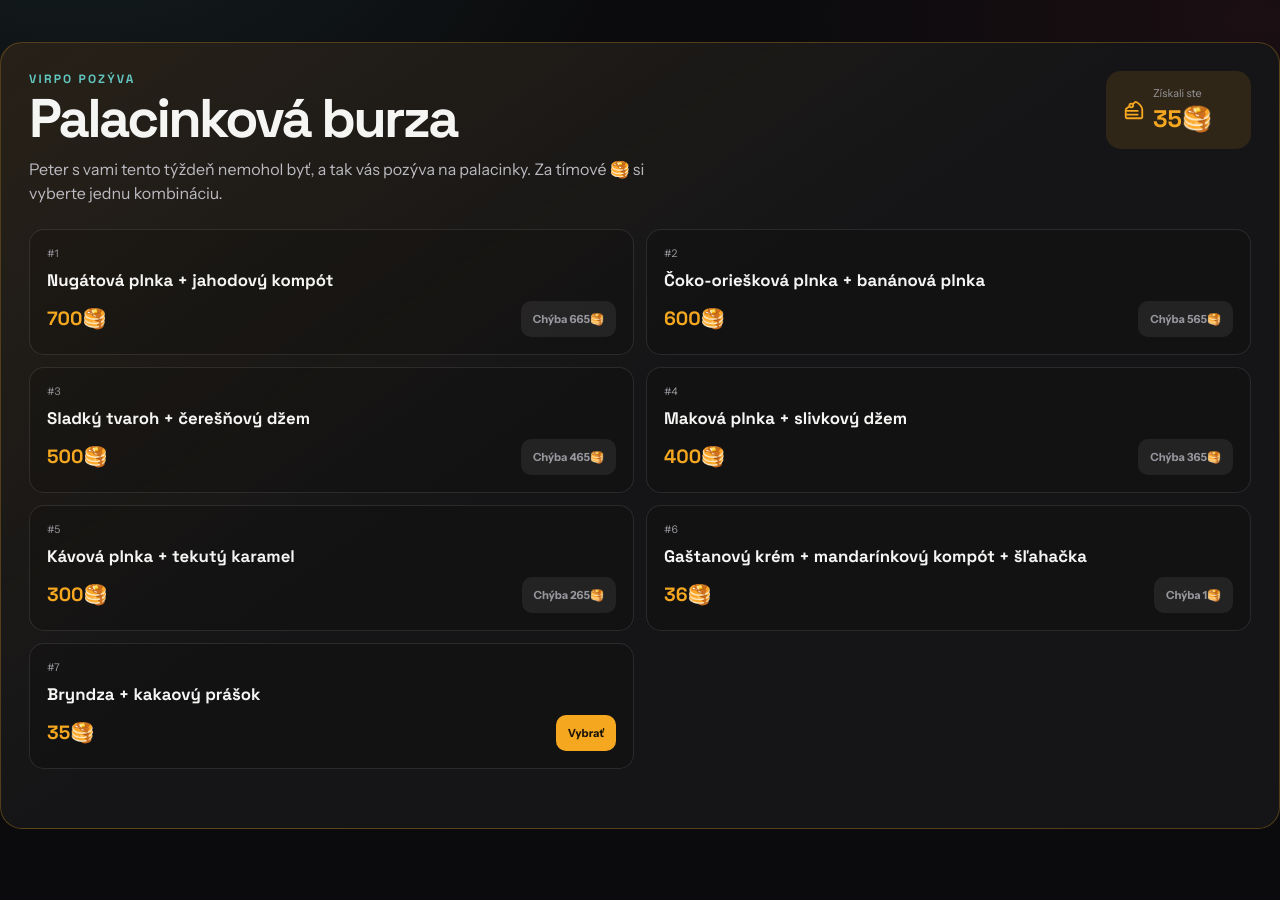
PancakeMarket › saves an affordable team choice and acknowledges success
This screenshot has width=1280, height=900.
Click the button with aria-label "Vybrať Bryndza + kakaový prášok" at (586, 733), box [556,715,616,751]
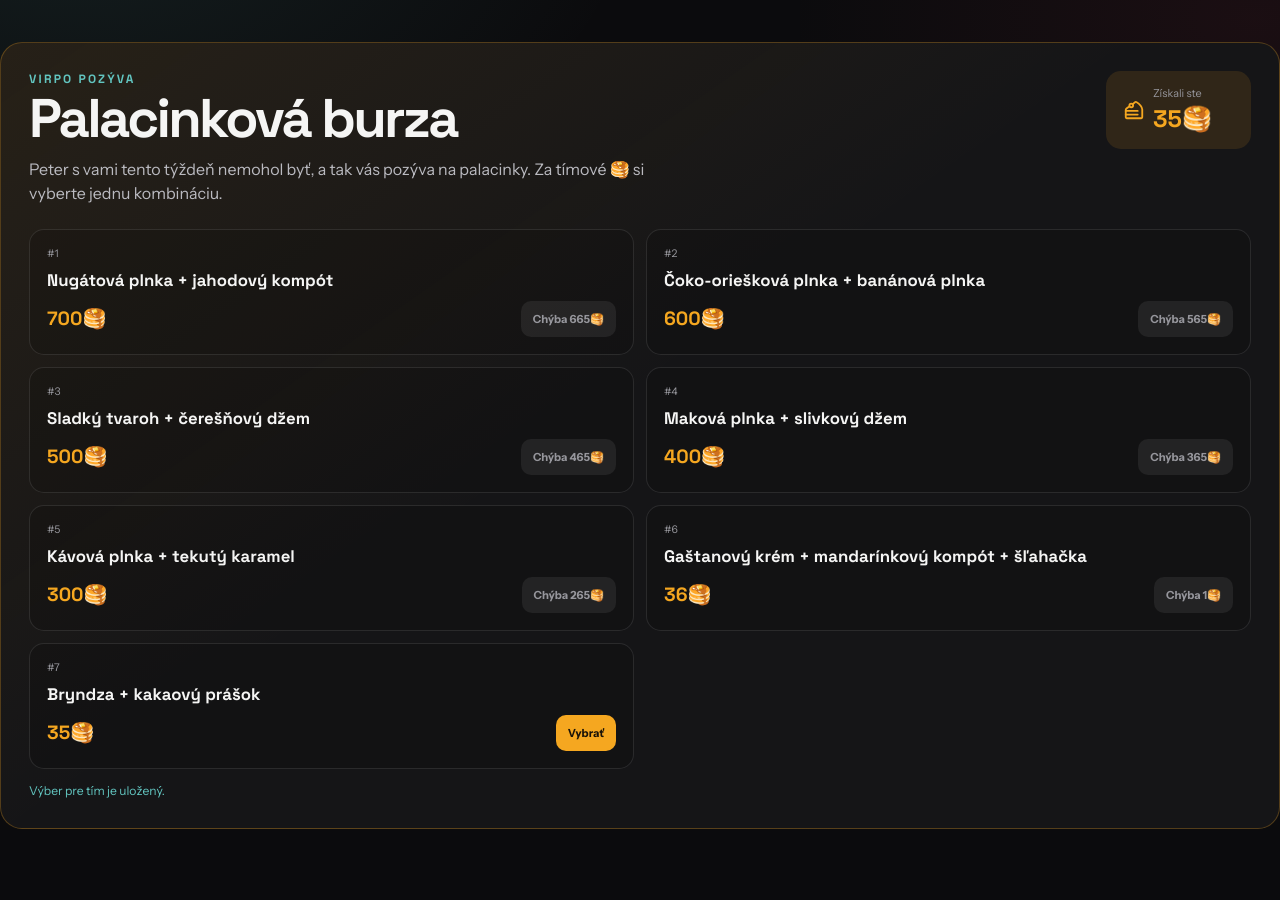
Expected: the text "Výber pre tím je uložený." is shown, [29,783,165,798]
